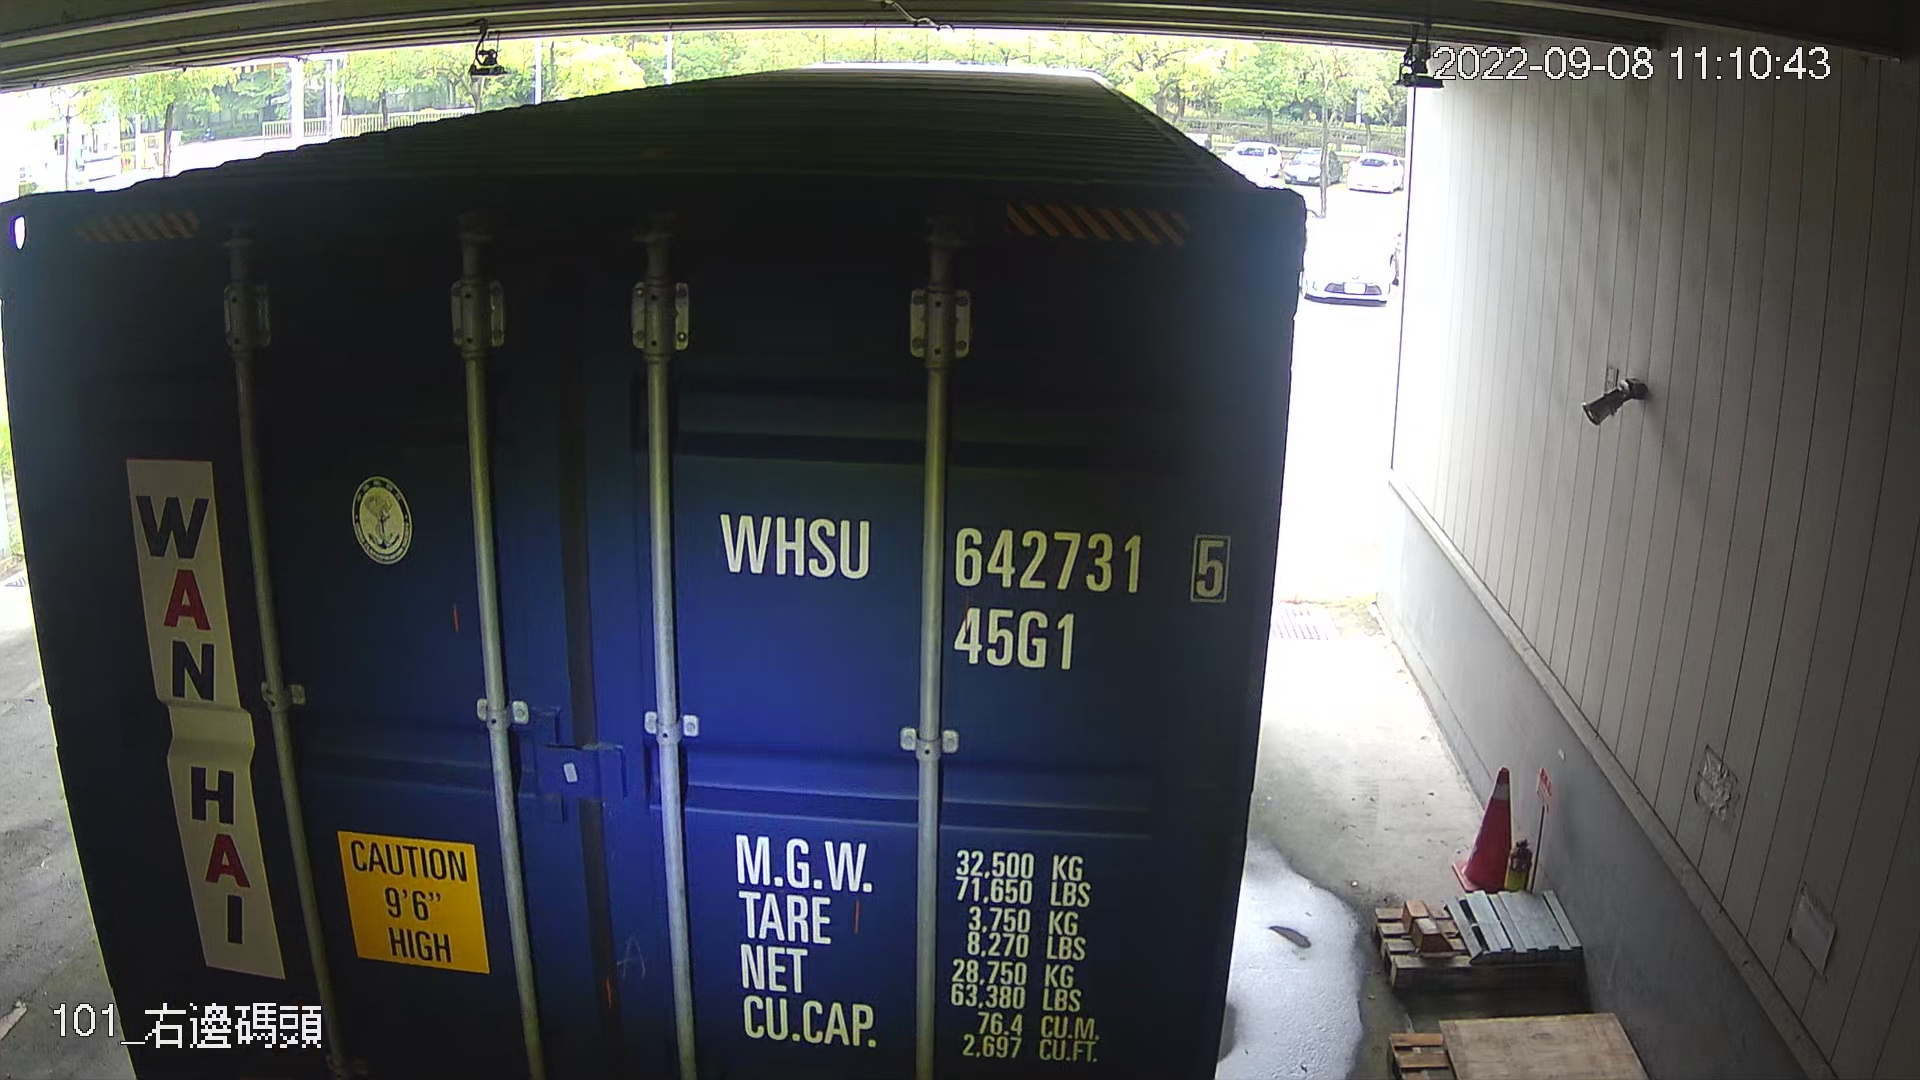container: (712, 488, 1244, 680)
